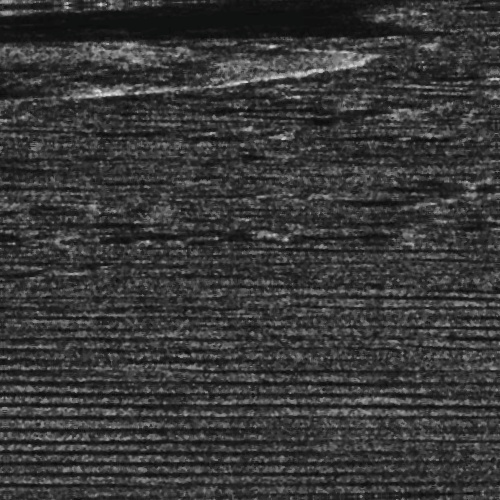object: (0, 28, 316, 91), (373, 0, 500, 34)
shadow: (0, 0, 500, 34)
